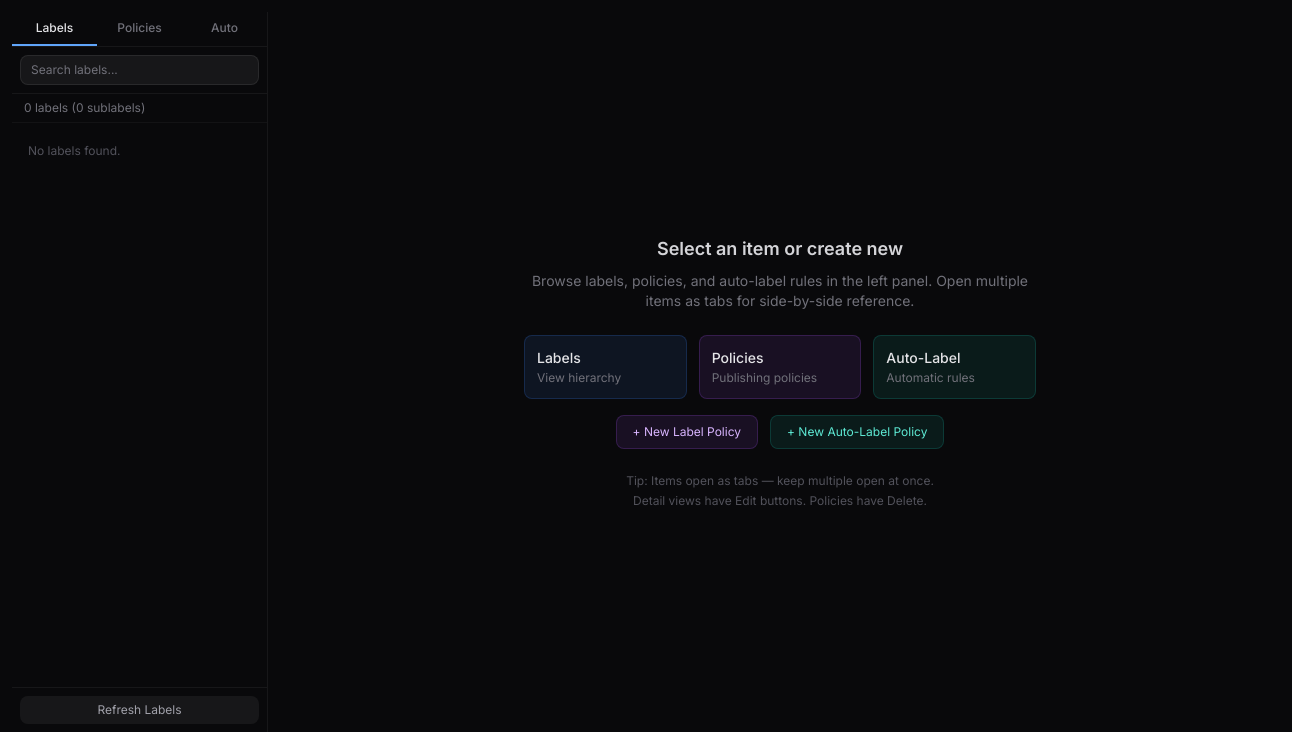
LabelsPage › opens a new policy form tab when clicking + New Label Policy
Click the button "+ New Label Policy" at x=687, y=432, box x1=616 y1=415 x2=758 y2=449
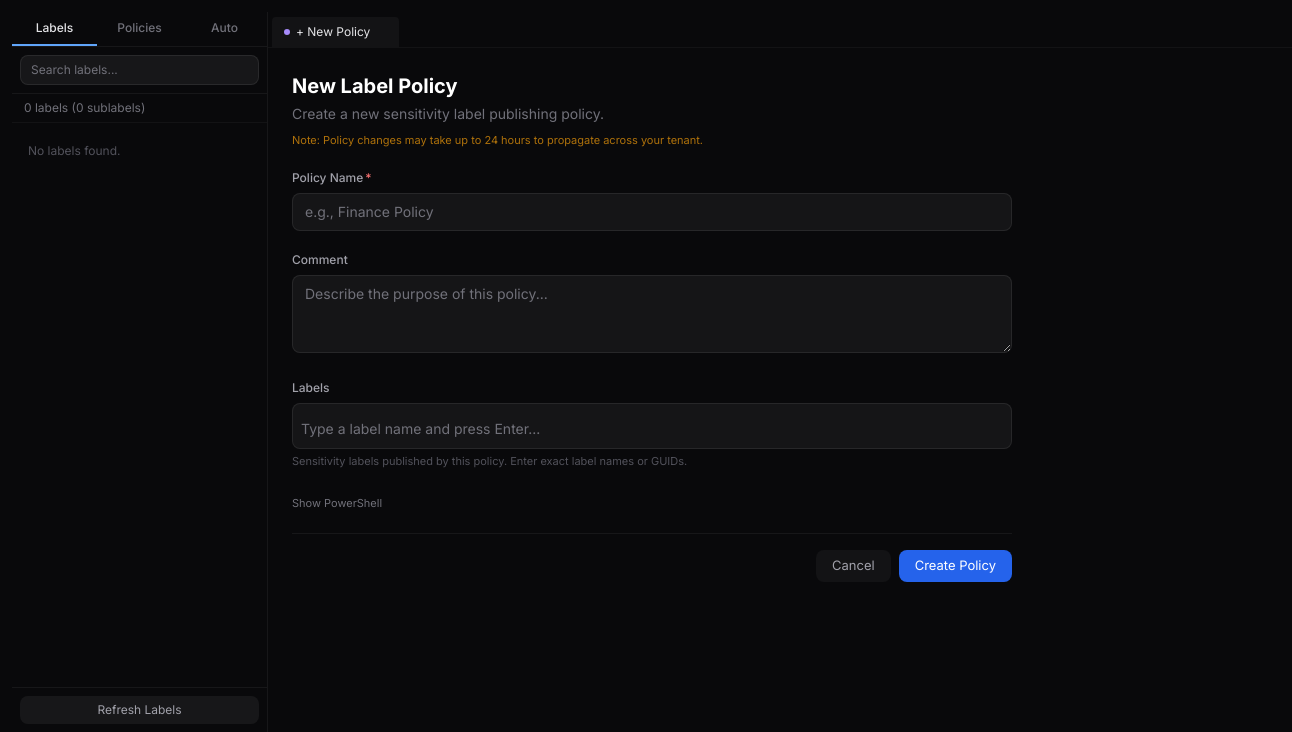
Expected: the heading "Select an item or create new" is gone
Expected: the text "+ New Policy" is shown, x1=296 y1=22 x2=370 y2=40
